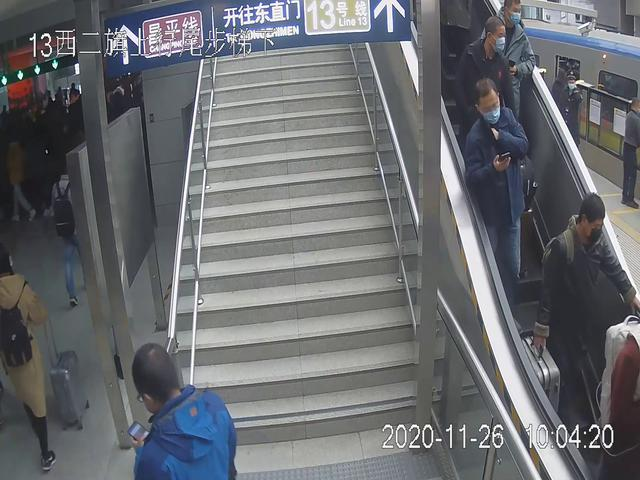person: (531, 188, 639, 470), (1, 240, 90, 475), (460, 76, 530, 306)
